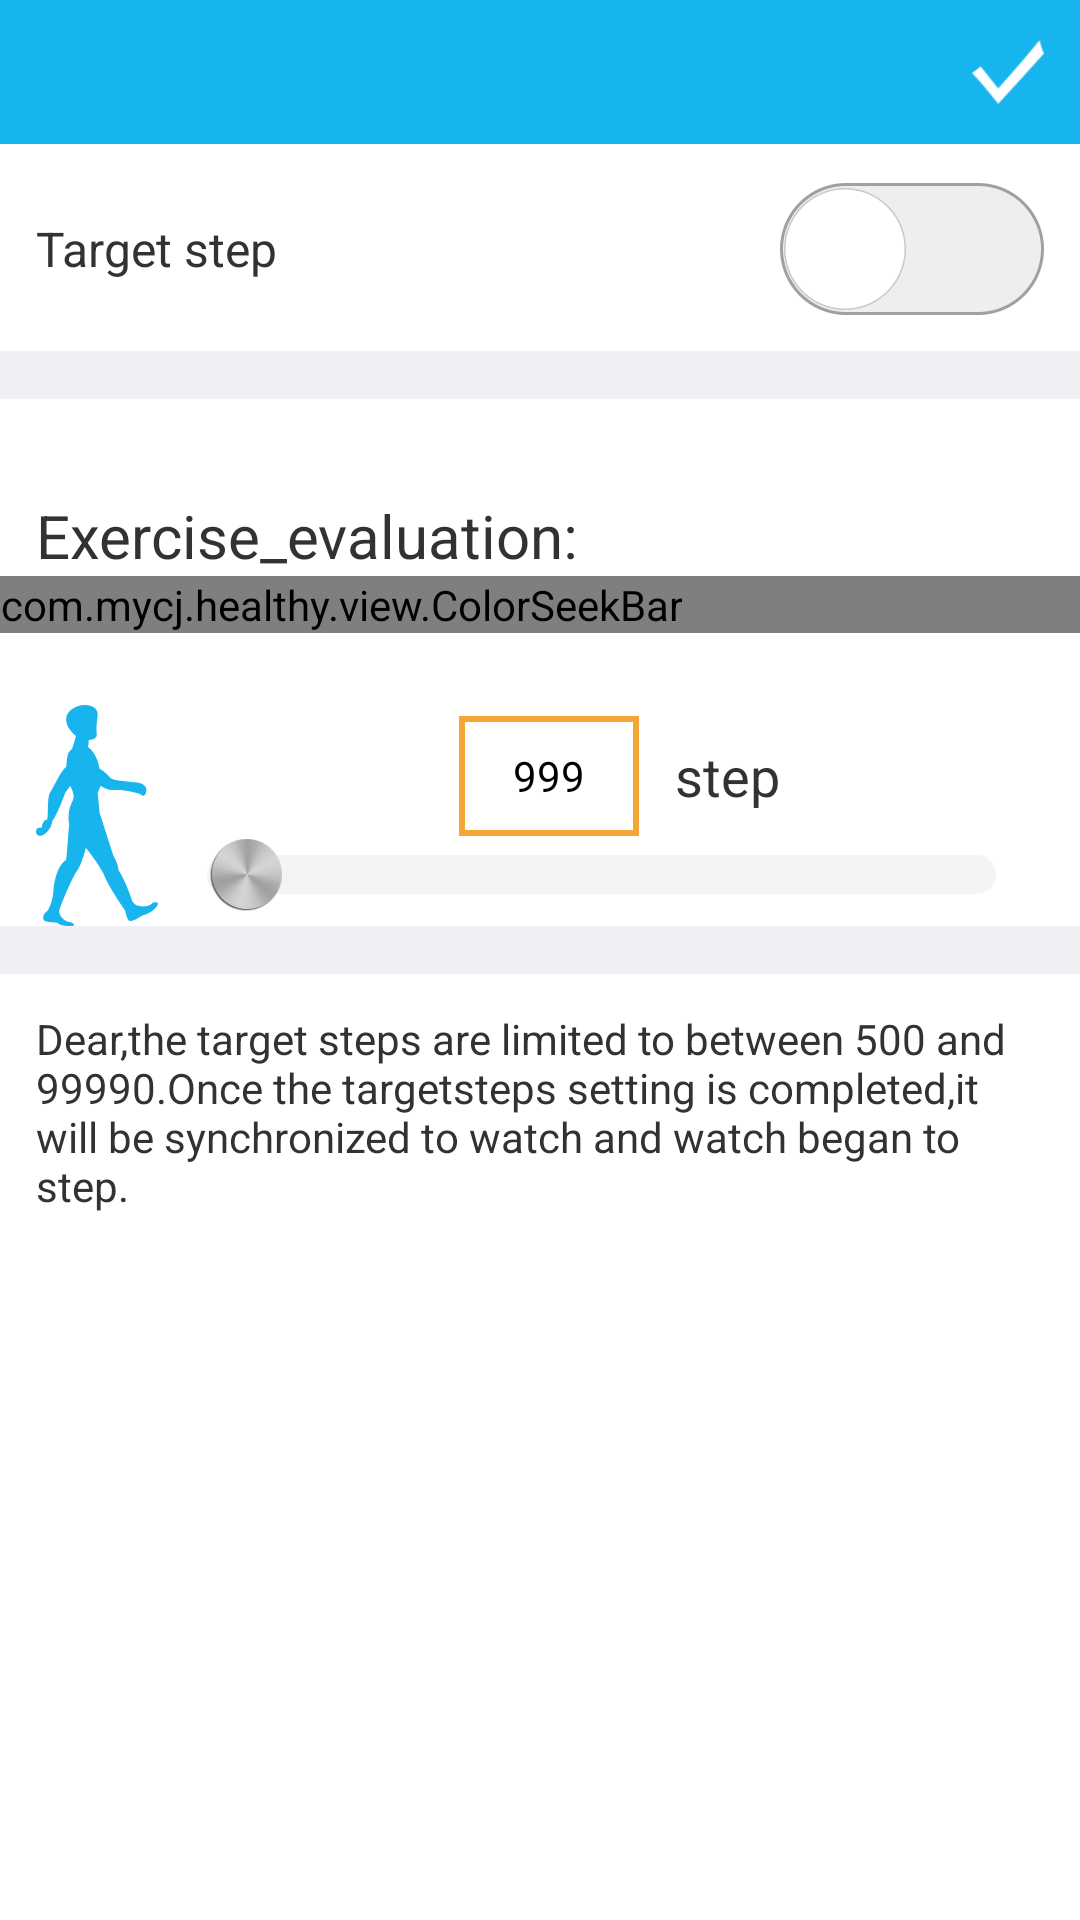

Named icons in this screenshot (1080*1920) and their bounding boxes, (x1, y1, x2, y2):
setting done: (972, 40, 1044, 104)
walkman: (36, 705, 158, 926)
